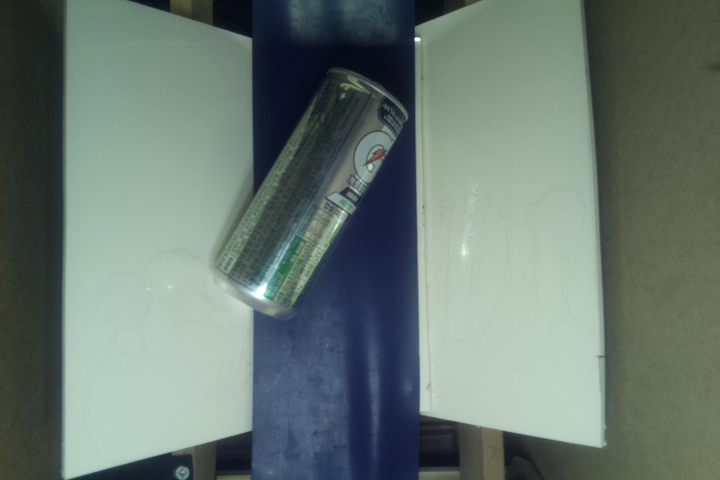can: (211, 68, 413, 321)
